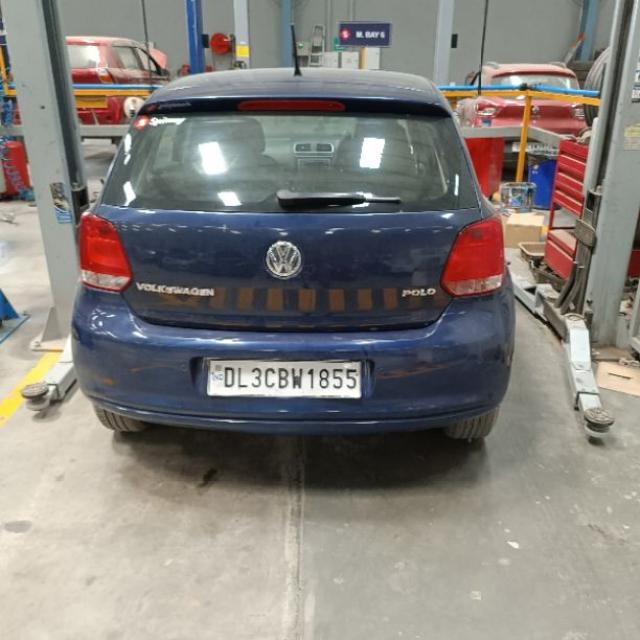license_plate: (204, 356, 364, 399)
